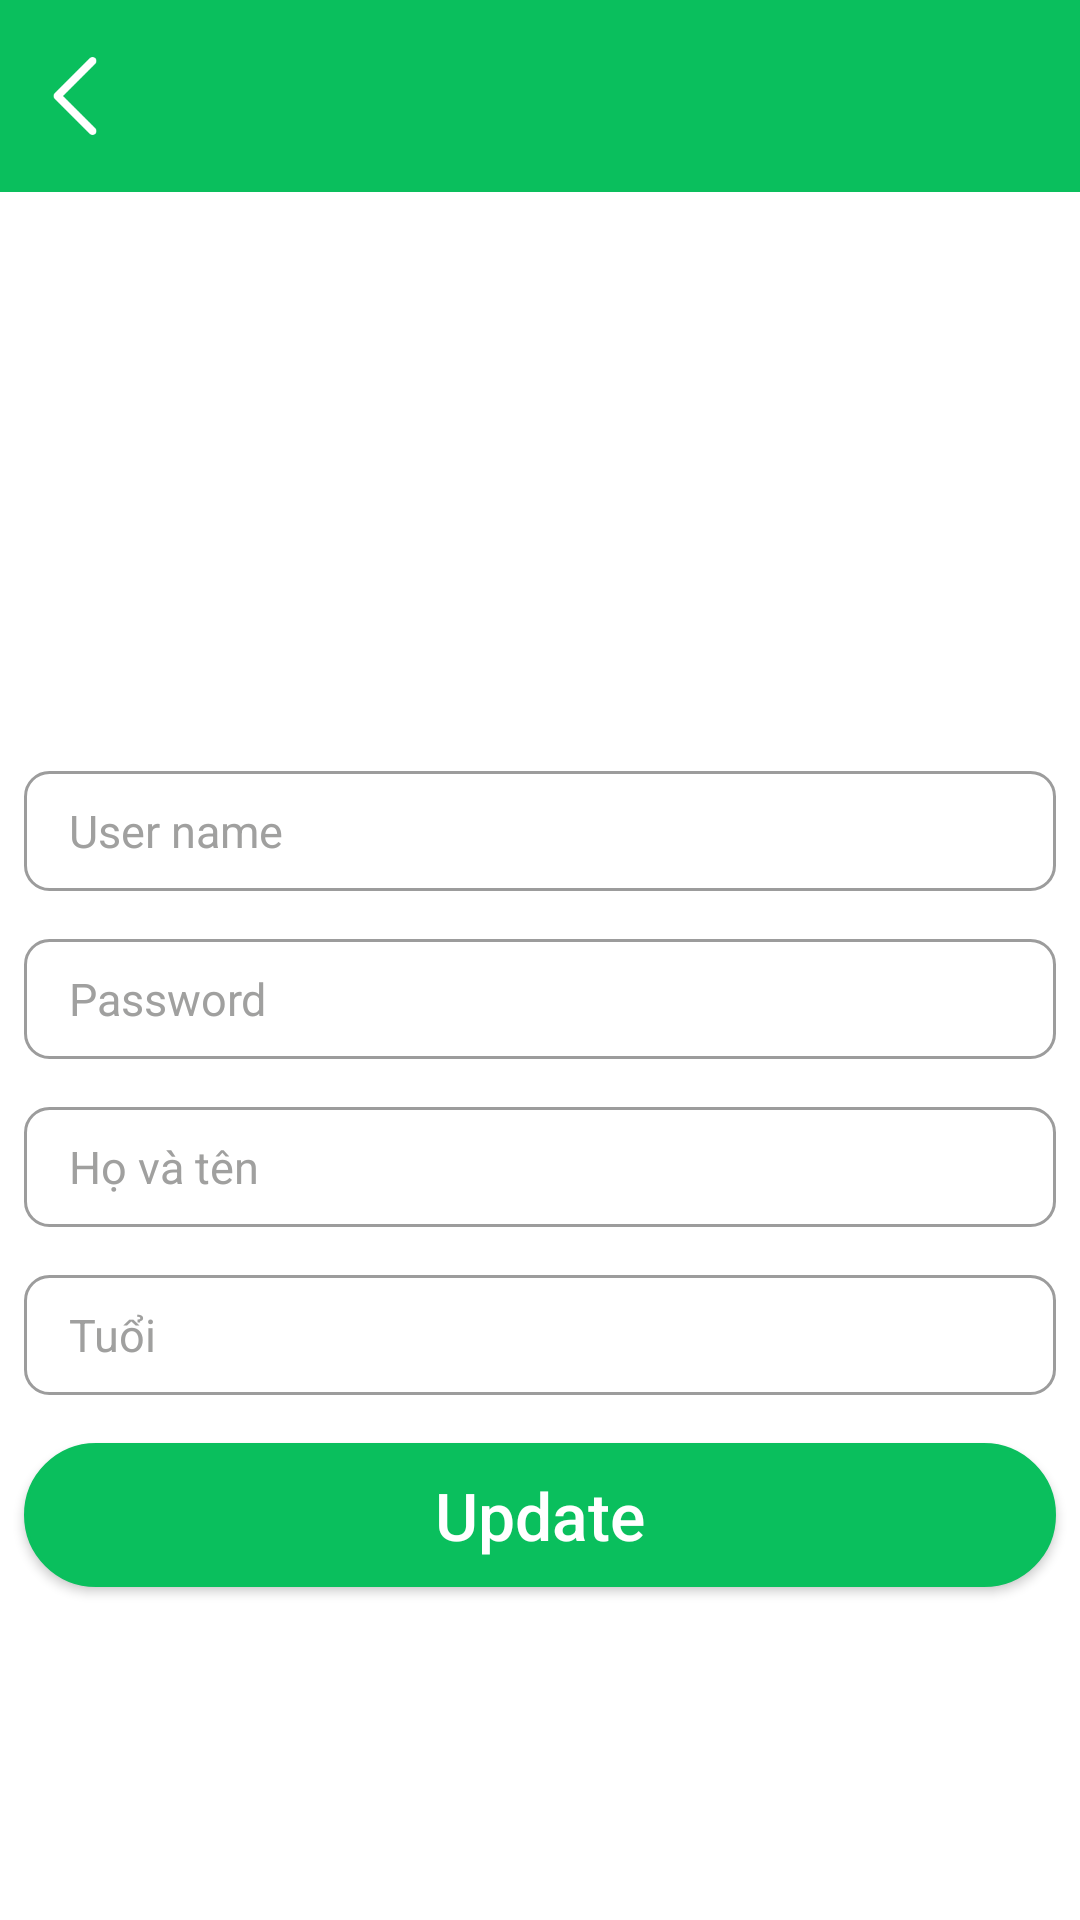

Point at icon controls on the screen. Image size 1080w x 1920h, points as [x,y].
back: [75,96]
